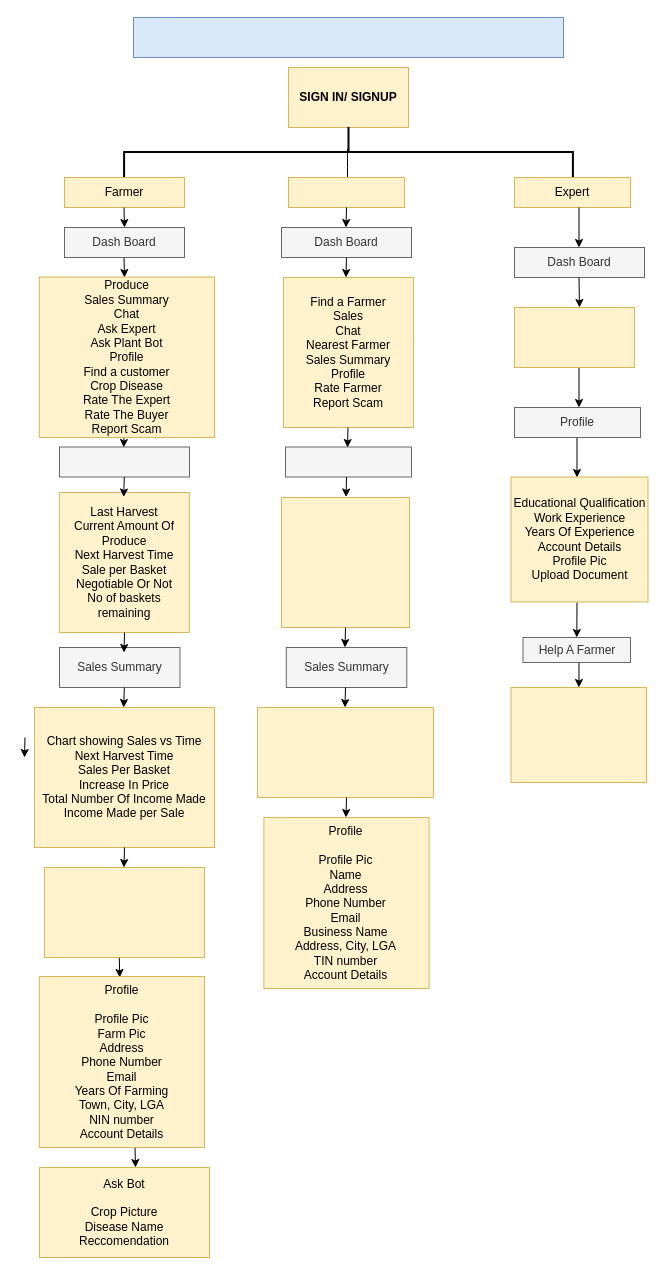
Some shapes in this 666 by 1275 pixel diagram are drawn without their labels. The shapes that lost their labels are listed below. From the top down, each one's box as (x1, y1, x2, y2) in pixels, then its label:
(132, 16, 564, 58): Supposed Layout For Farmily App
(288, 176, 404, 208): Buyer
(514, 306, 634, 368): Profile Help A Farmer Report Scam
(58, 446, 190, 477): Produce
(284, 446, 412, 477): Find A Farmer
(280, 496, 410, 628): Location Profile Of Each Farmer Click to Chat Nearest Farmer
(256, 706, 434, 798): Chart showing Total Items Bought Increase In Price
(510, 686, 646, 782): Crop Picture Payment Status View Question State Answer State Reccomendation
(44, 866, 204, 958): Ask Expert Upload Picture Questions Pay For Advice
